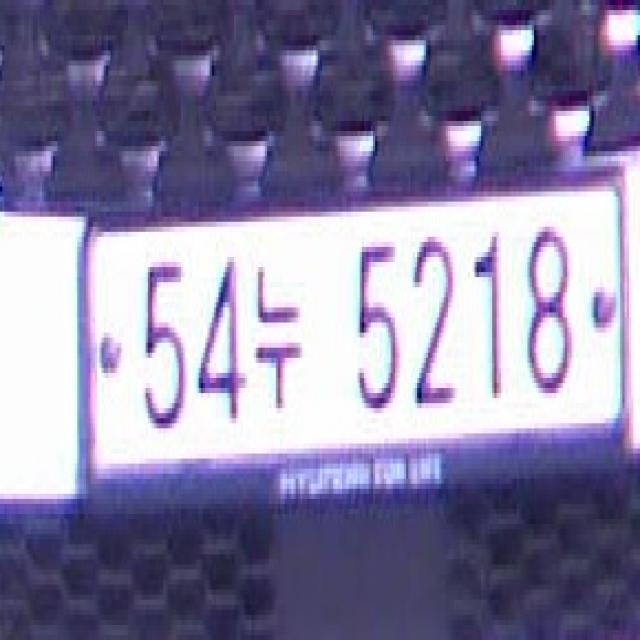1: (470, 196, 505, 444)
2: (408, 196, 457, 428)
4: (192, 237, 247, 448)
5: (133, 226, 195, 454), (346, 202, 408, 428)
8: (521, 212, 587, 413)
license_plate: (69, 141, 636, 544)
nu: (247, 252, 307, 418)
